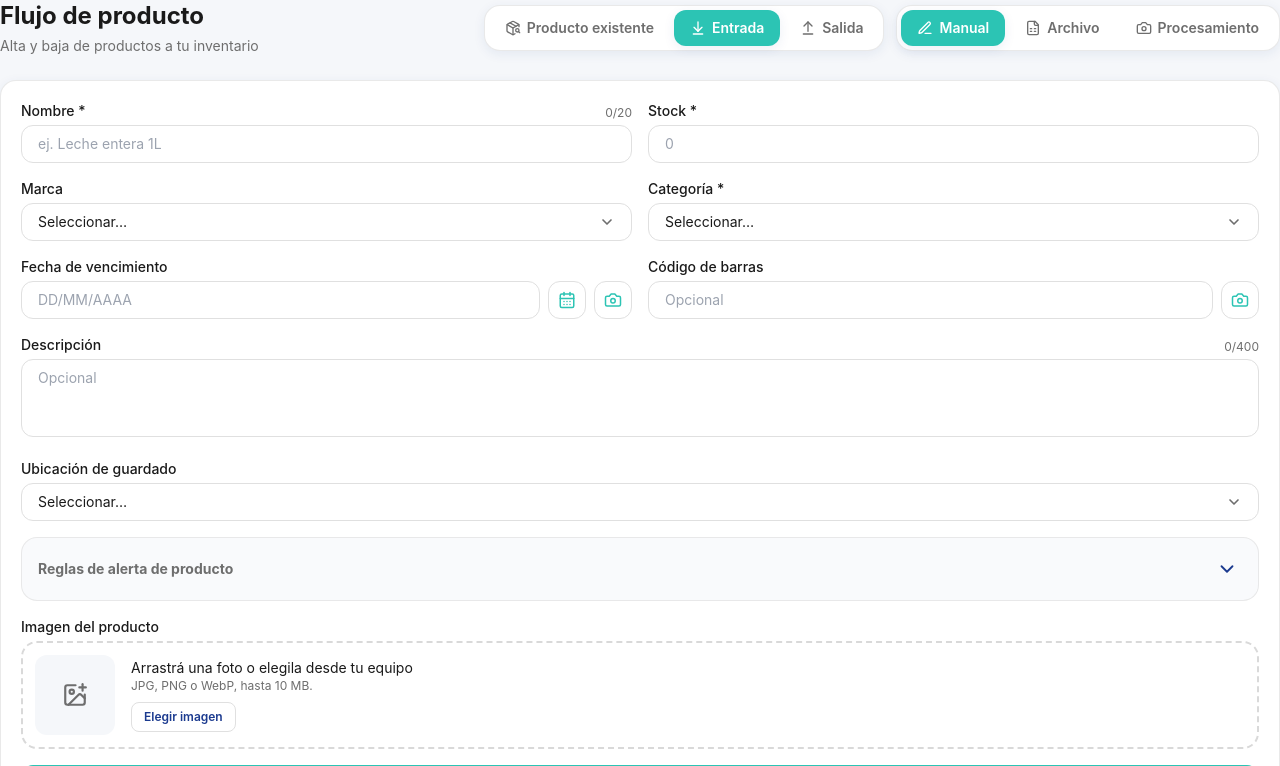
it: Cargar · manual (salida) › exige elegir un producto de las sugerencias antes de registrar la salida
This screenshot has width=1280, height=766.
Click the button "Salida" at (832, 28), box [784,10,880,46]
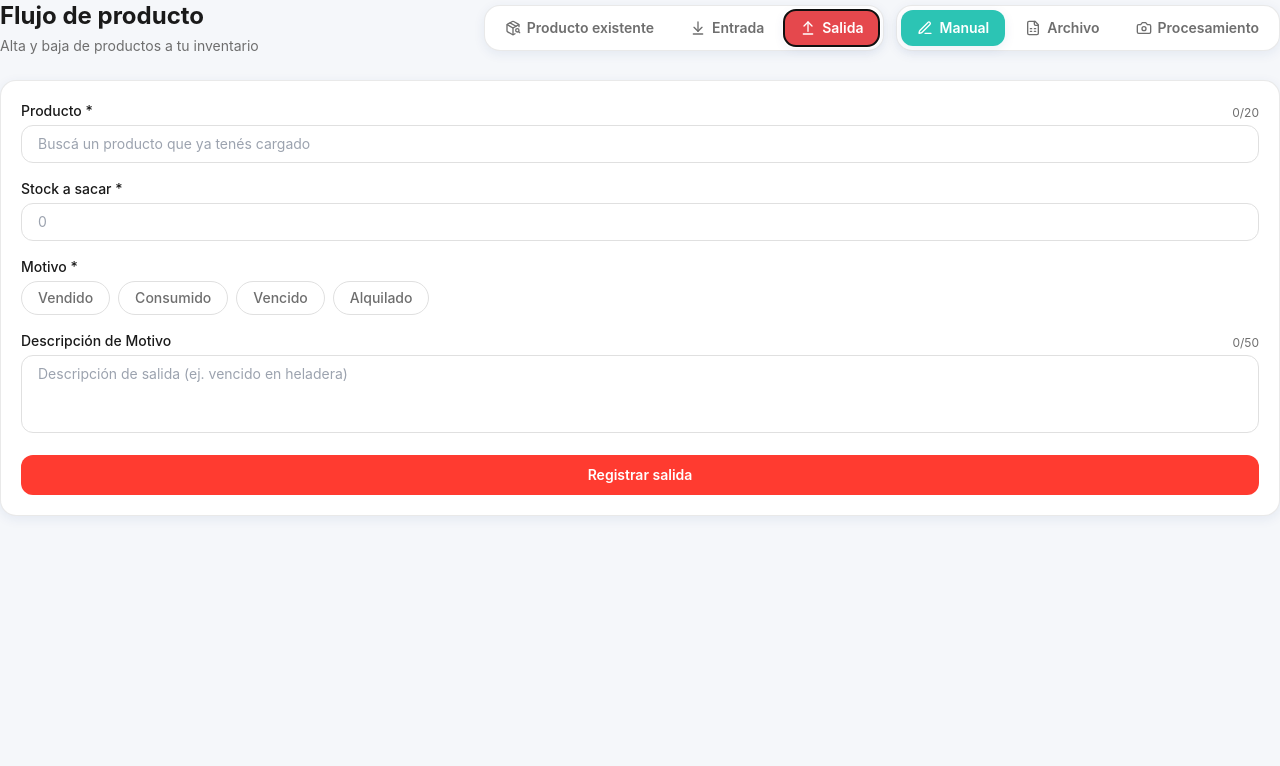
Type "Algo" into the field with placeholder "Buscá un producto que ya tenés cargado" at (640, 144), box [21,125,1259,163]
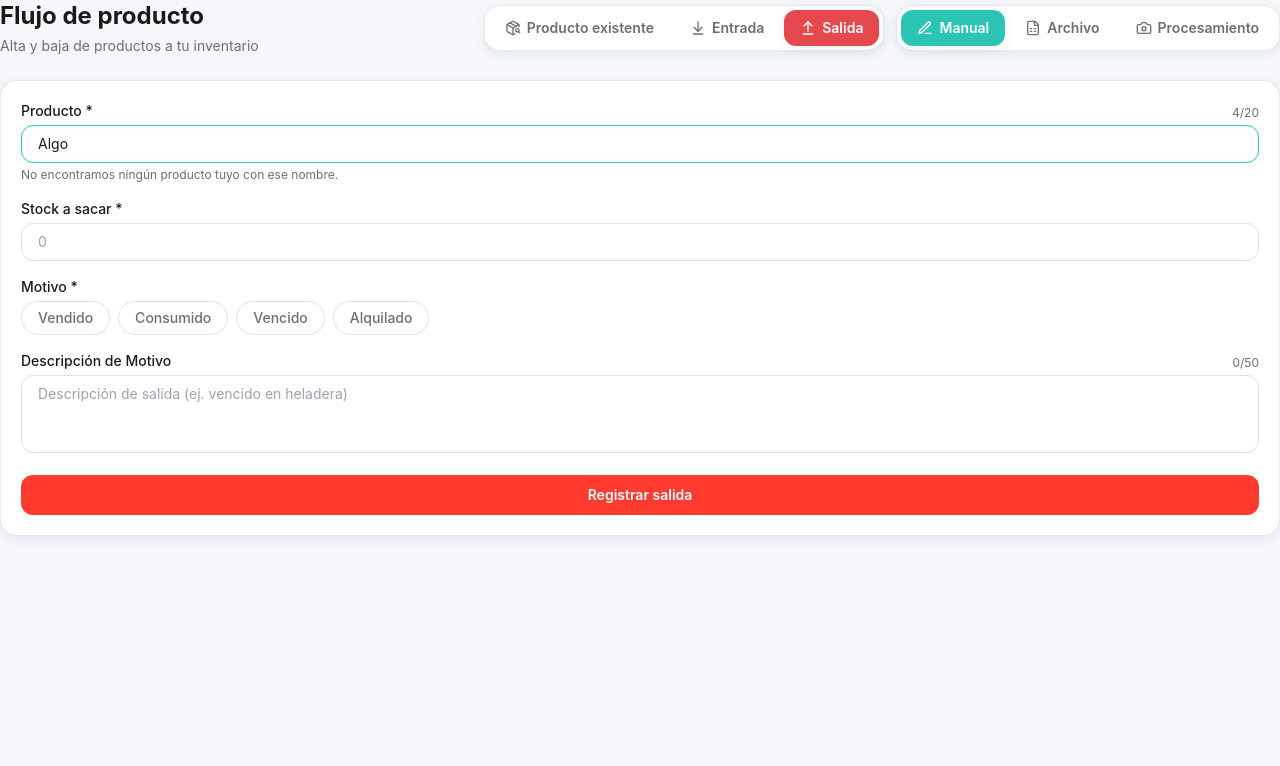
Type "1" into the field named "Stock a sacar" at (640, 242), box [21,223,1259,261]
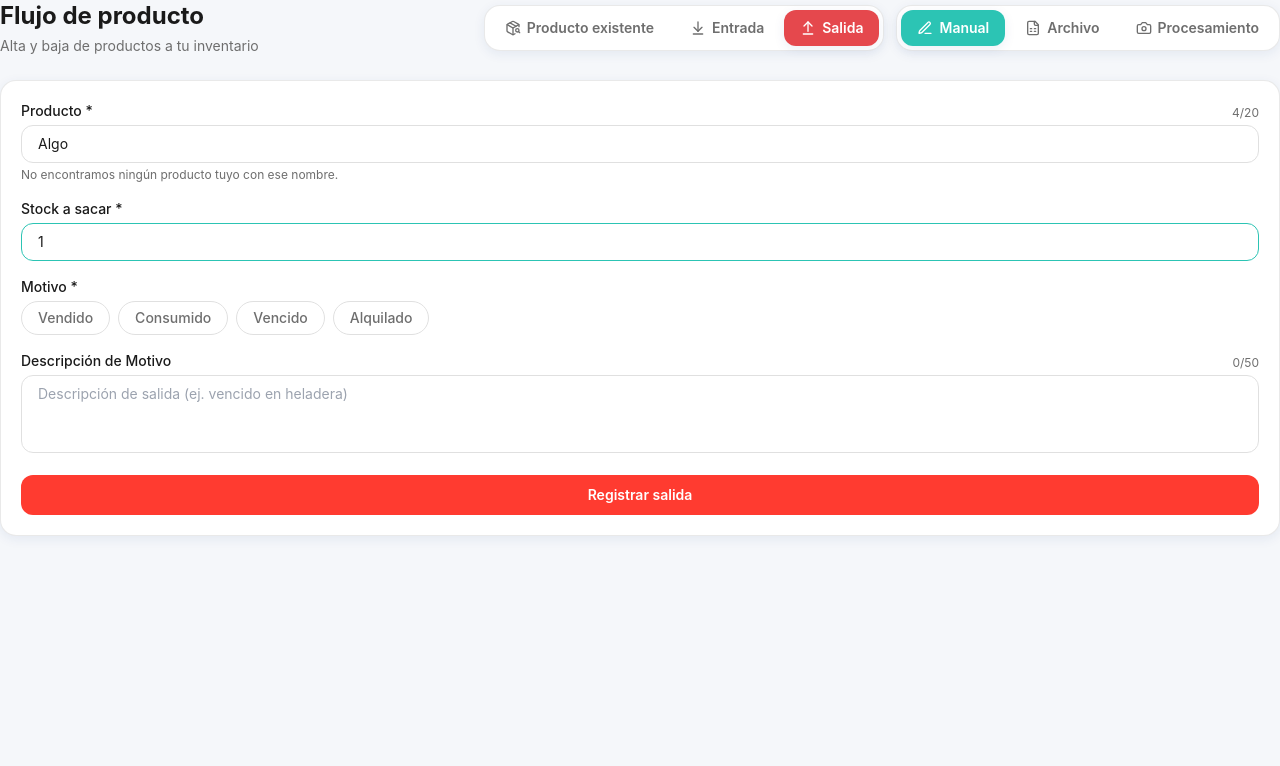
Click the button "Registrar salida" at (640, 495), box [21,475,1259,515]
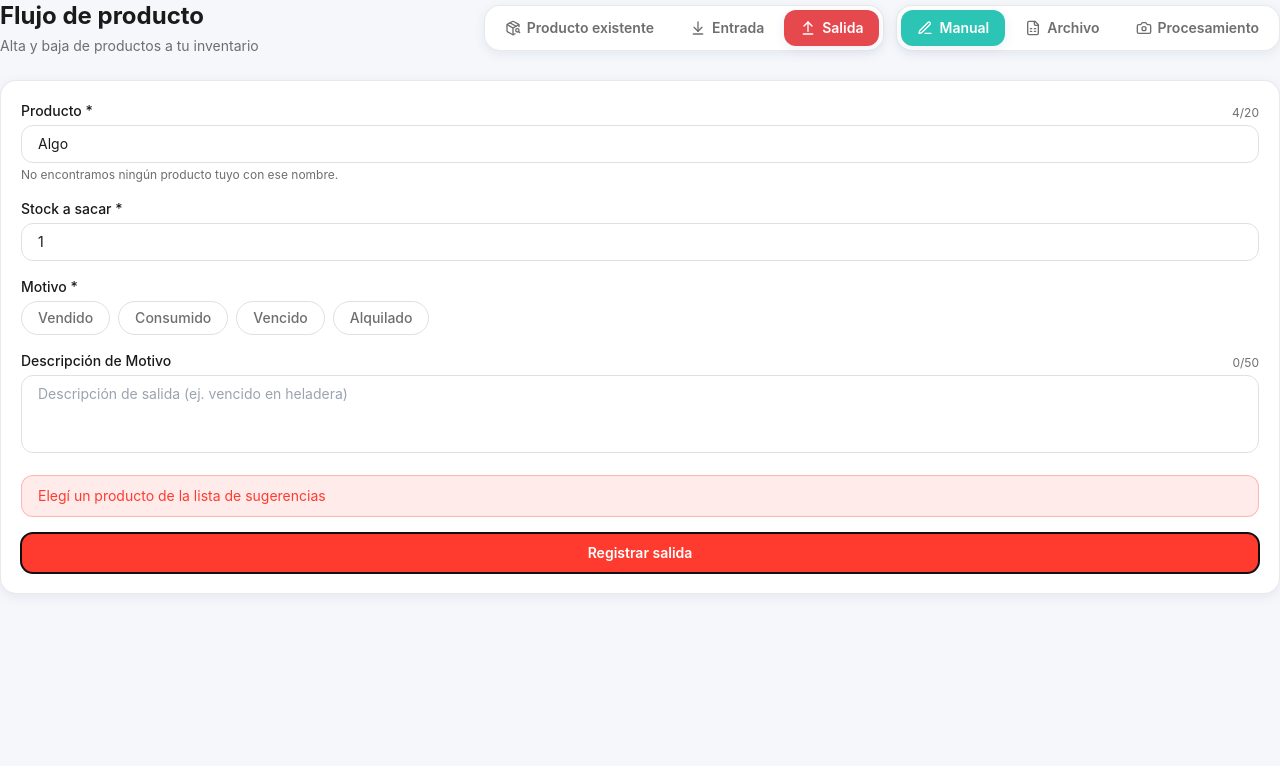
Expected: the text "Elegí un producto de la lista de sugerencias" is shown, [21,475,1259,517]
